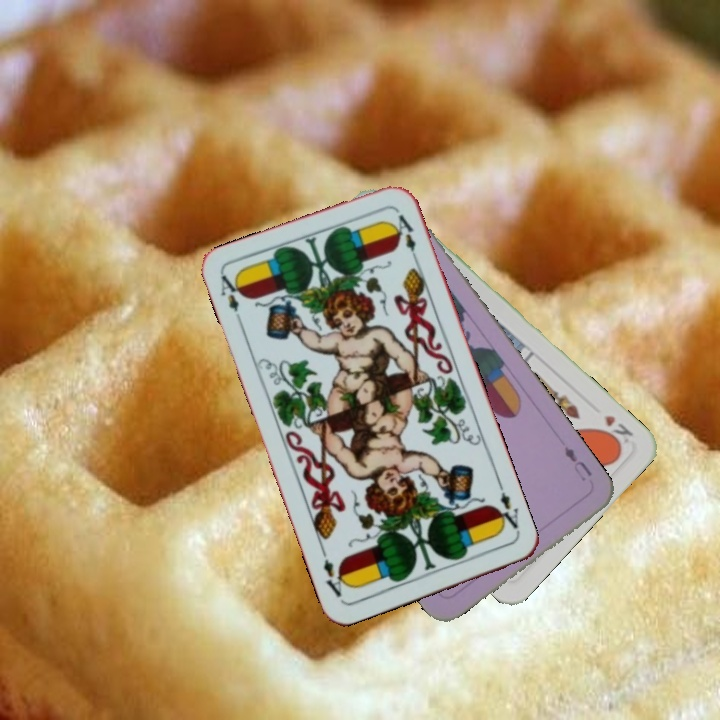EA: (490, 479, 523, 537), (216, 270, 246, 328)
EU: (559, 442, 595, 484)
HK: (596, 411, 636, 450)
